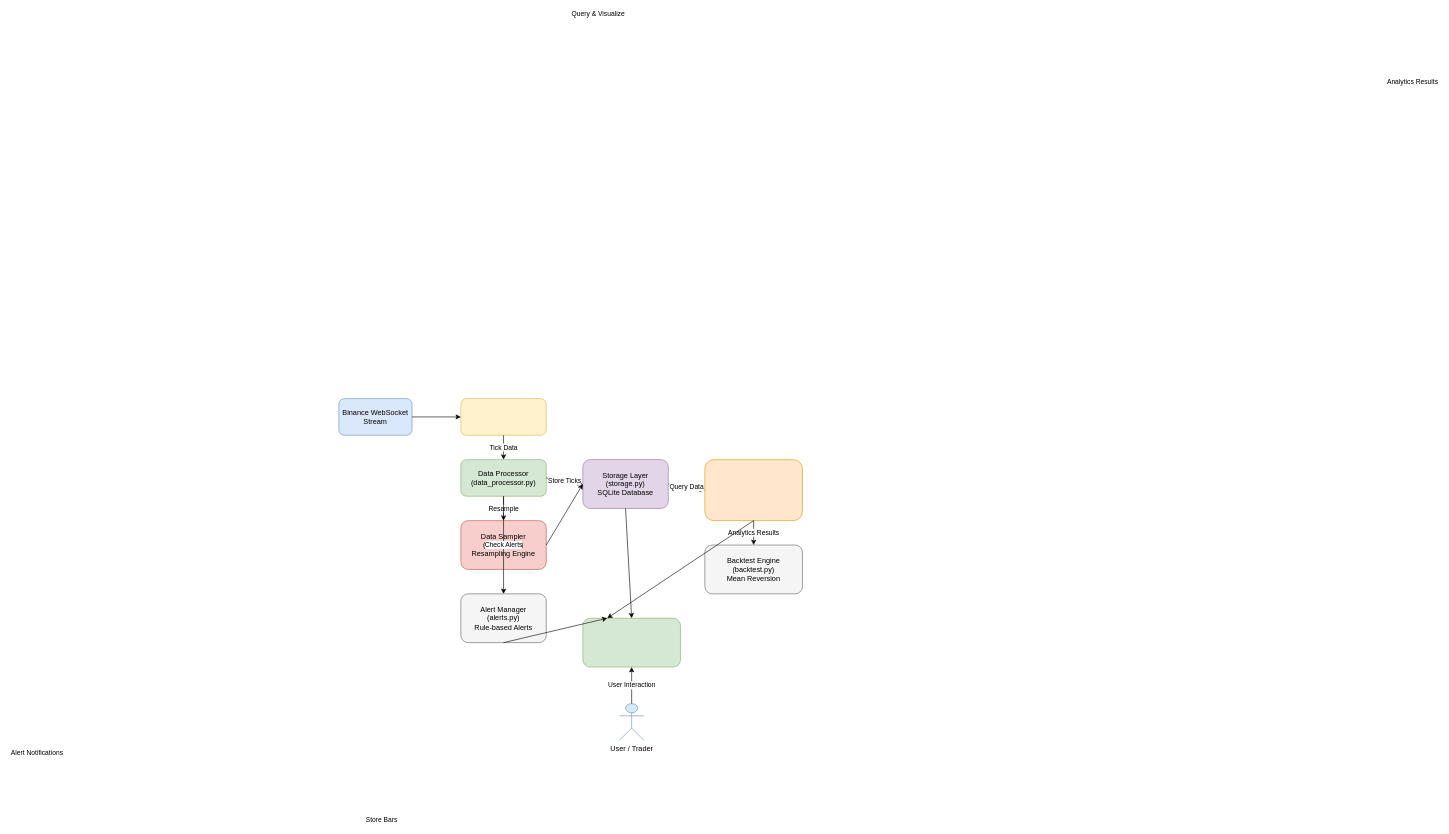
This 1449x834 diagram has some shape labels left out. Here are the shapes that lost their labels. From the top down, the box of each, then its label:
(460, 398, 546, 435): WebSocket Client (binance_client.py)
(704, 459, 802, 521): Analytics Engine (analytics.py) OLS, Z-Score, ADF, Correlation, Kalman
(582, 618, 680, 667): Streamlit Dashboard (dashboard.py) Interactive Visualizations
